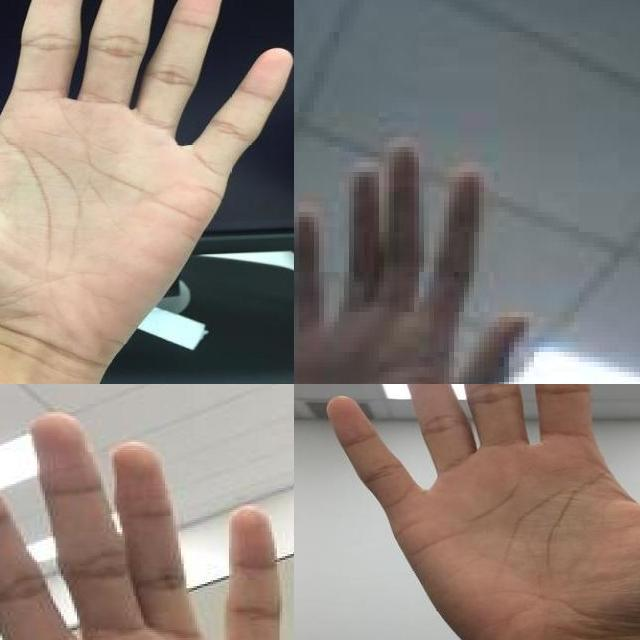no-gloves: (0, 0, 289, 359), (326, 384, 640, 640), (0, 408, 294, 640), (294, 137, 529, 384)
